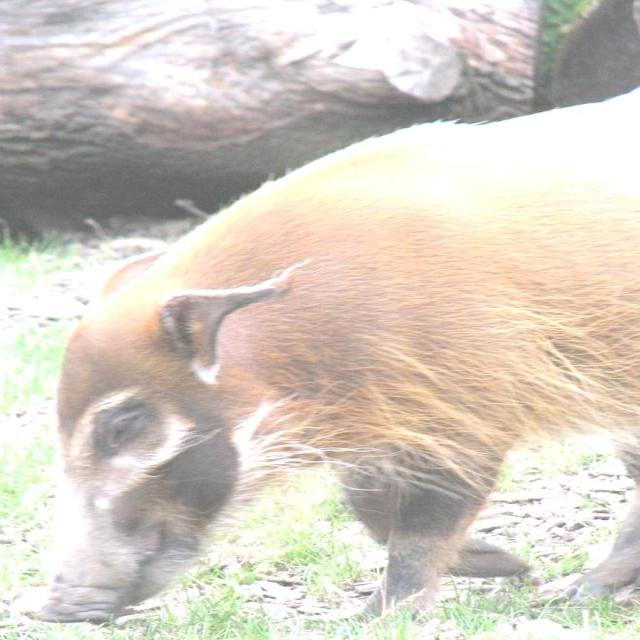pig: (40, 95, 638, 621)
